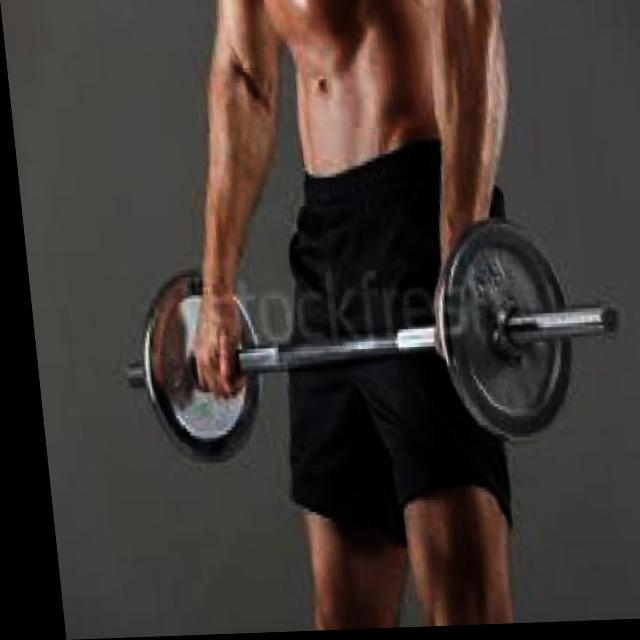barbell: (422, 216, 628, 452)
